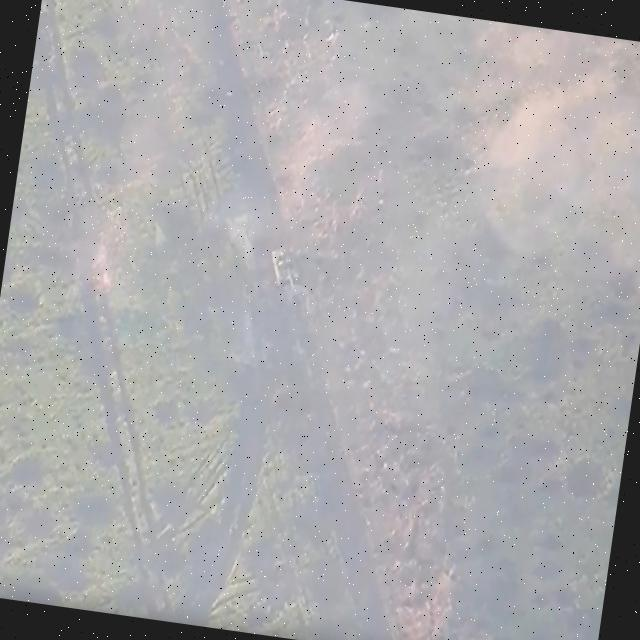MBT: (266, 241, 308, 298)
